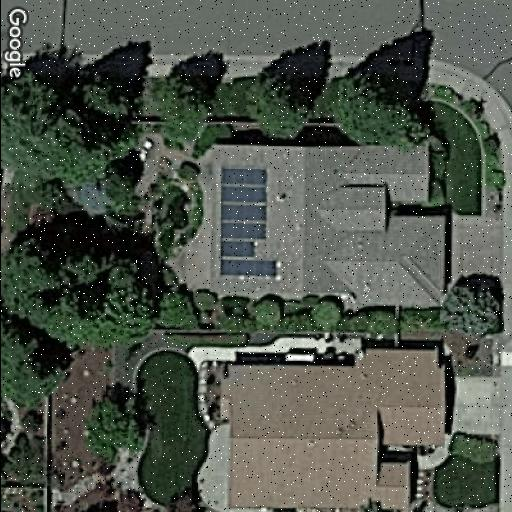solar-panel: (216, 166, 278, 282)
